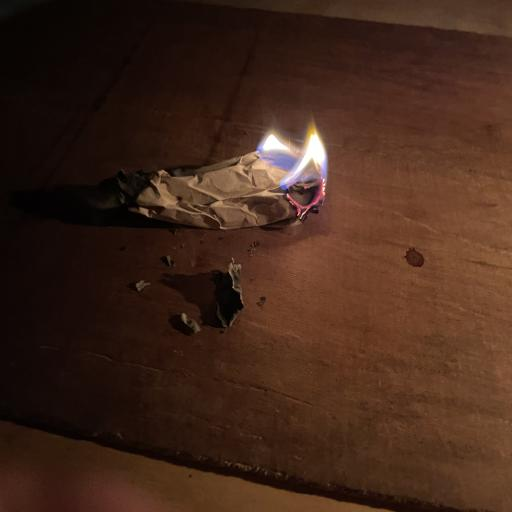fire: (257, 119, 327, 218)
